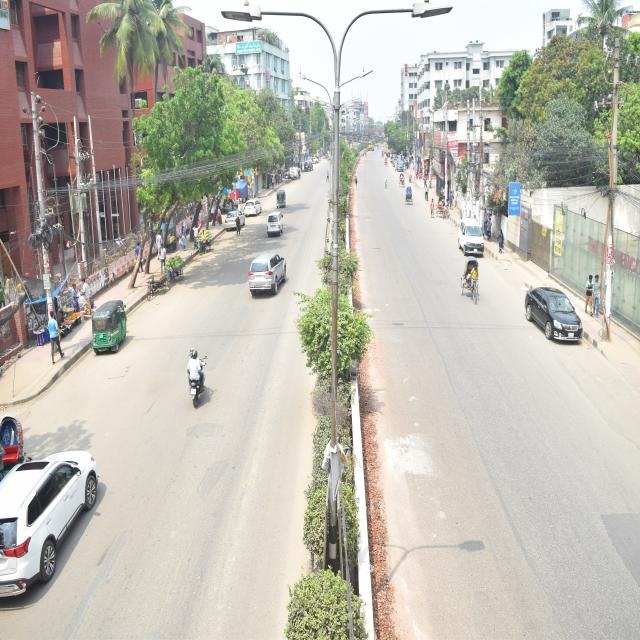car: (0, 442, 110, 625), (518, 260, 588, 358), (244, 239, 289, 340), (457, 209, 495, 275), (217, 199, 246, 236), (264, 204, 286, 250), (244, 192, 261, 229), (303, 154, 315, 183)
motorbike: (171, 322, 211, 439)
